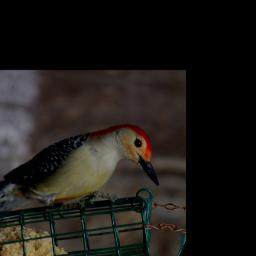Woodpecker: (0, 111, 167, 228)
